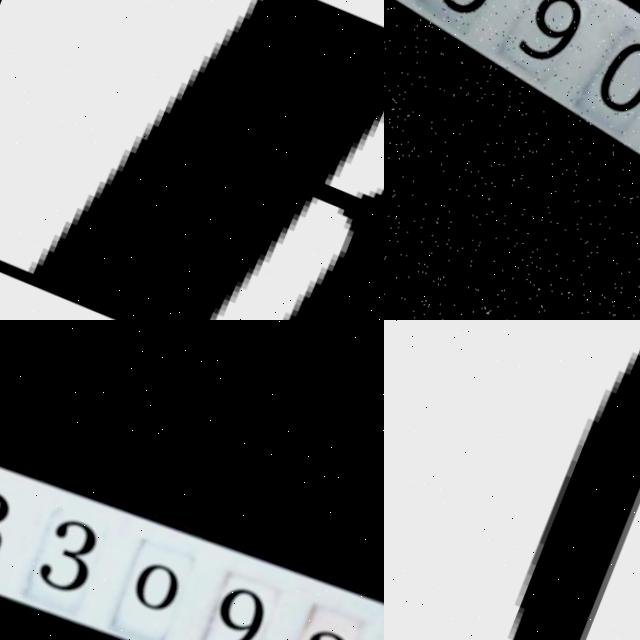0: (112, 530, 196, 632), (574, 10, 640, 133)
2: (281, 600, 367, 640)
3: (21, 495, 115, 609), (0, 465, 26, 576)
6: (413, 0, 526, 37)
9: (498, 0, 601, 82), (192, 561, 282, 640)
C: (510, 351, 640, 640)
R: (0, 0, 384, 320)
